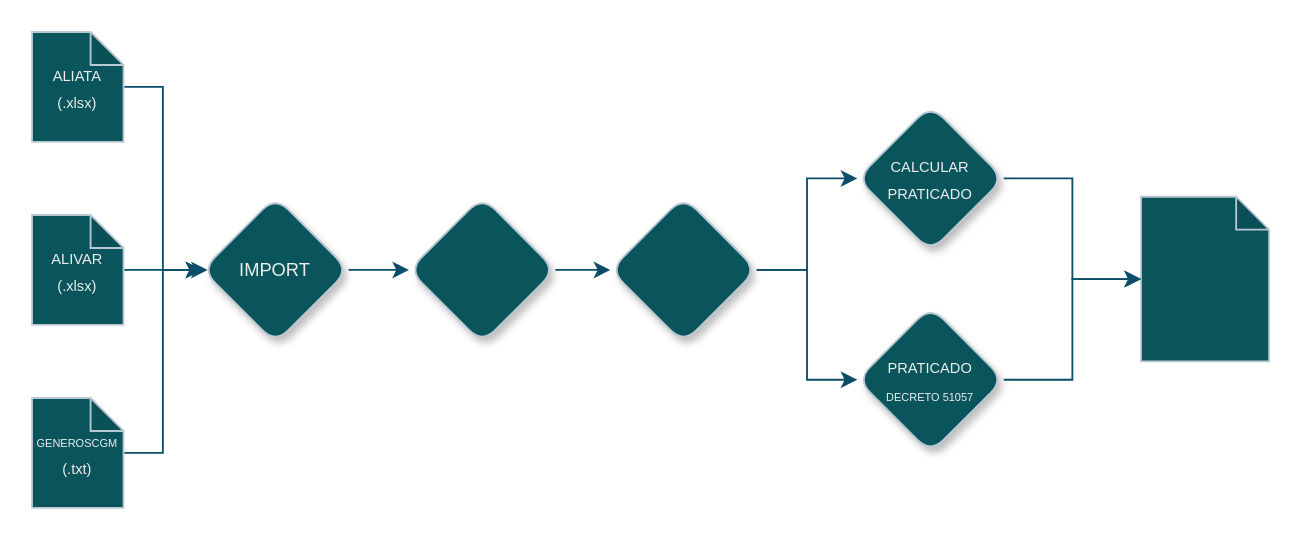
Some shapes in this 1301 by 540 pixel diagram are drawn without their labels. The centre of each missing label's shape, as x and y in pixels:
"COMPARATIVO DE PREÇOS (.xlsx)" goes at point 1204,278.
"TIDY" goes at point 483,272.
"TRANSFORM" goes at point 684,272.
